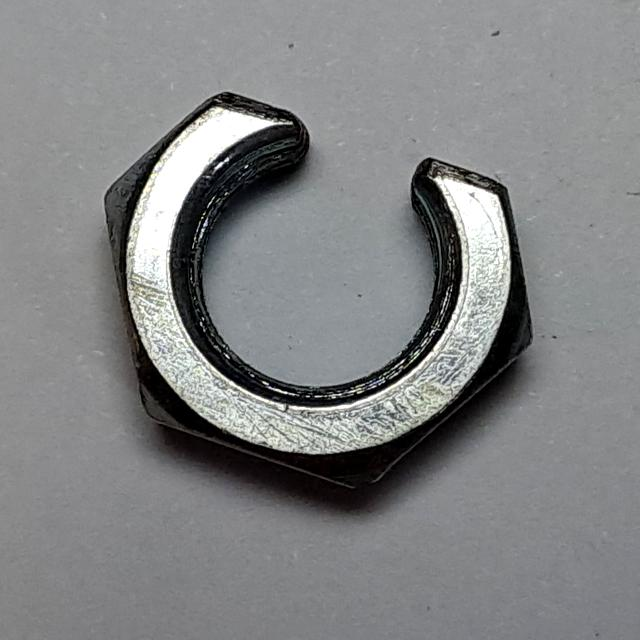Fracture: (94, 79, 549, 508)
